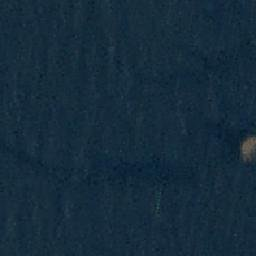debris: (236, 135, 256, 162)
